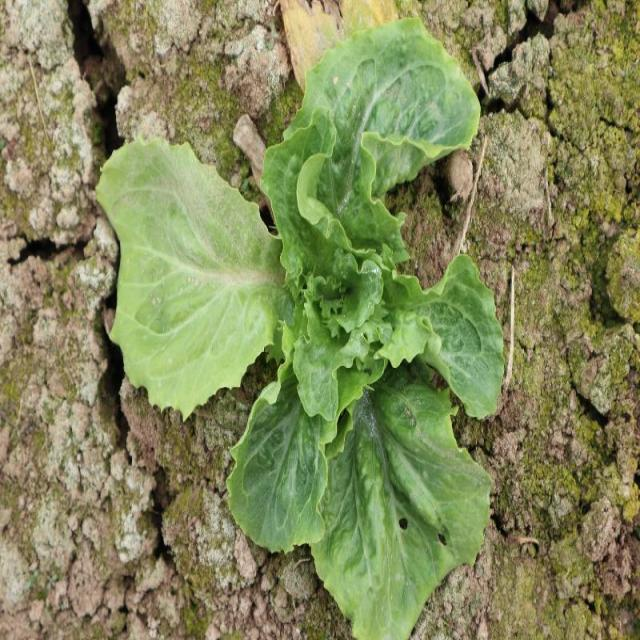crop: (93, 10, 504, 640)
